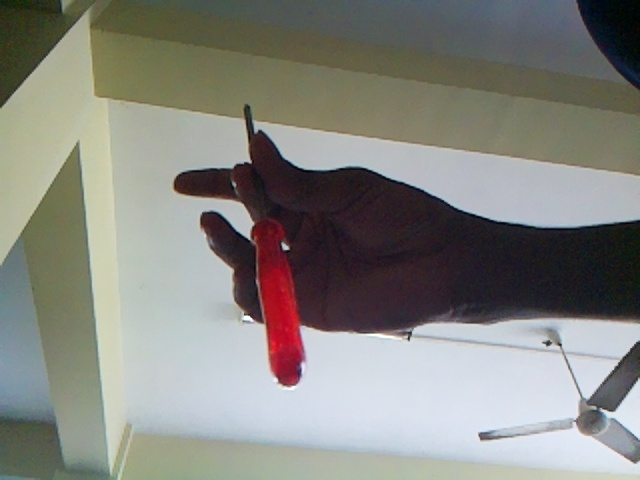redskrew: (239, 96, 318, 400)
